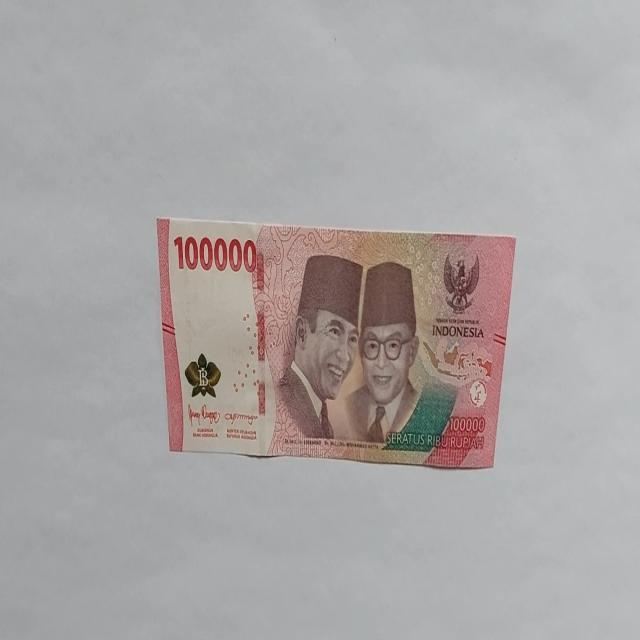seratus ribu rupiah: (156, 216, 516, 470), (269, 253, 363, 452)
